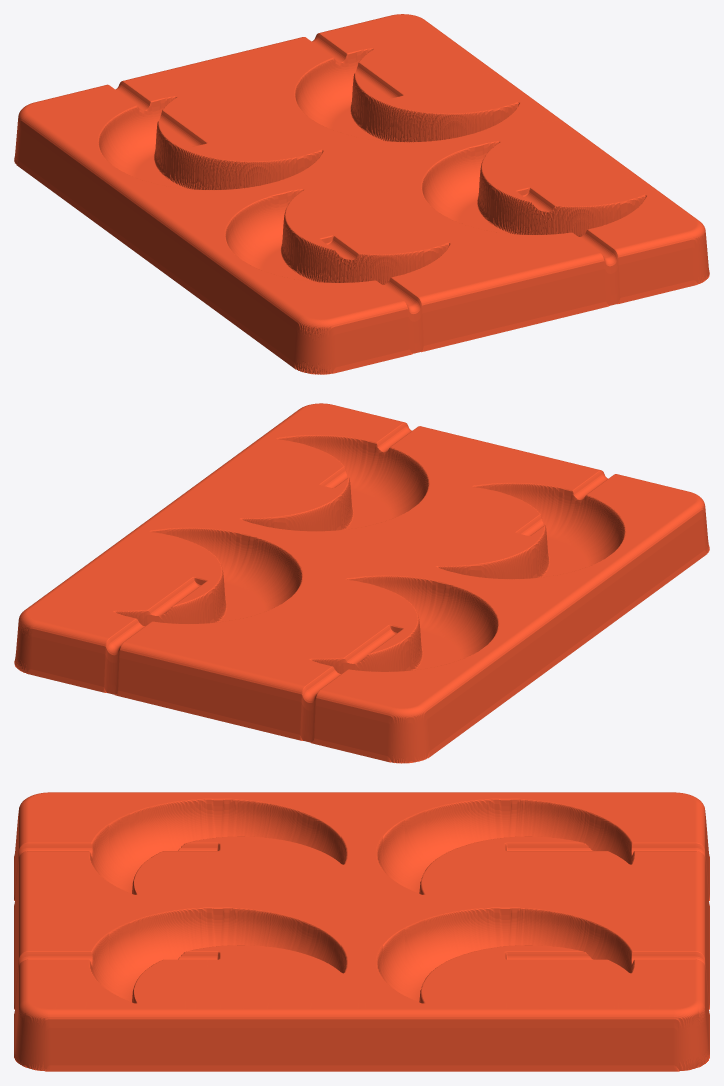
Rendered from mold.glb.
3 views of the same model, one above another, from view 1: azimuth 30°, elevation 25°; view 2: azimuth 150°, elevation 25°; view 3: azimuth 270°, elevation 25° (orthographic). The views are drawn at different scales.
Visible parts, largest first — view 1: geometry_0; view 2: geometry_0; view 3: geometry_0.
Boxes of the visible parts, bbox=[...] form: geometry_0: bbox=[14, 14, 709, 374]; geometry_0: bbox=[14, 403, 709, 763]; geometry_0: bbox=[14, 792, 709, 1071].
Bounding box in the file's own units: 0.1345 × 0.0155 × 0.1735.
